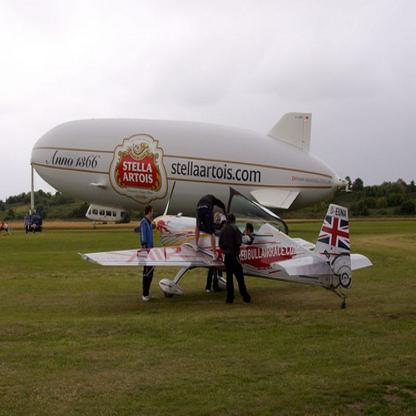Airship: (26, 113, 355, 213)
